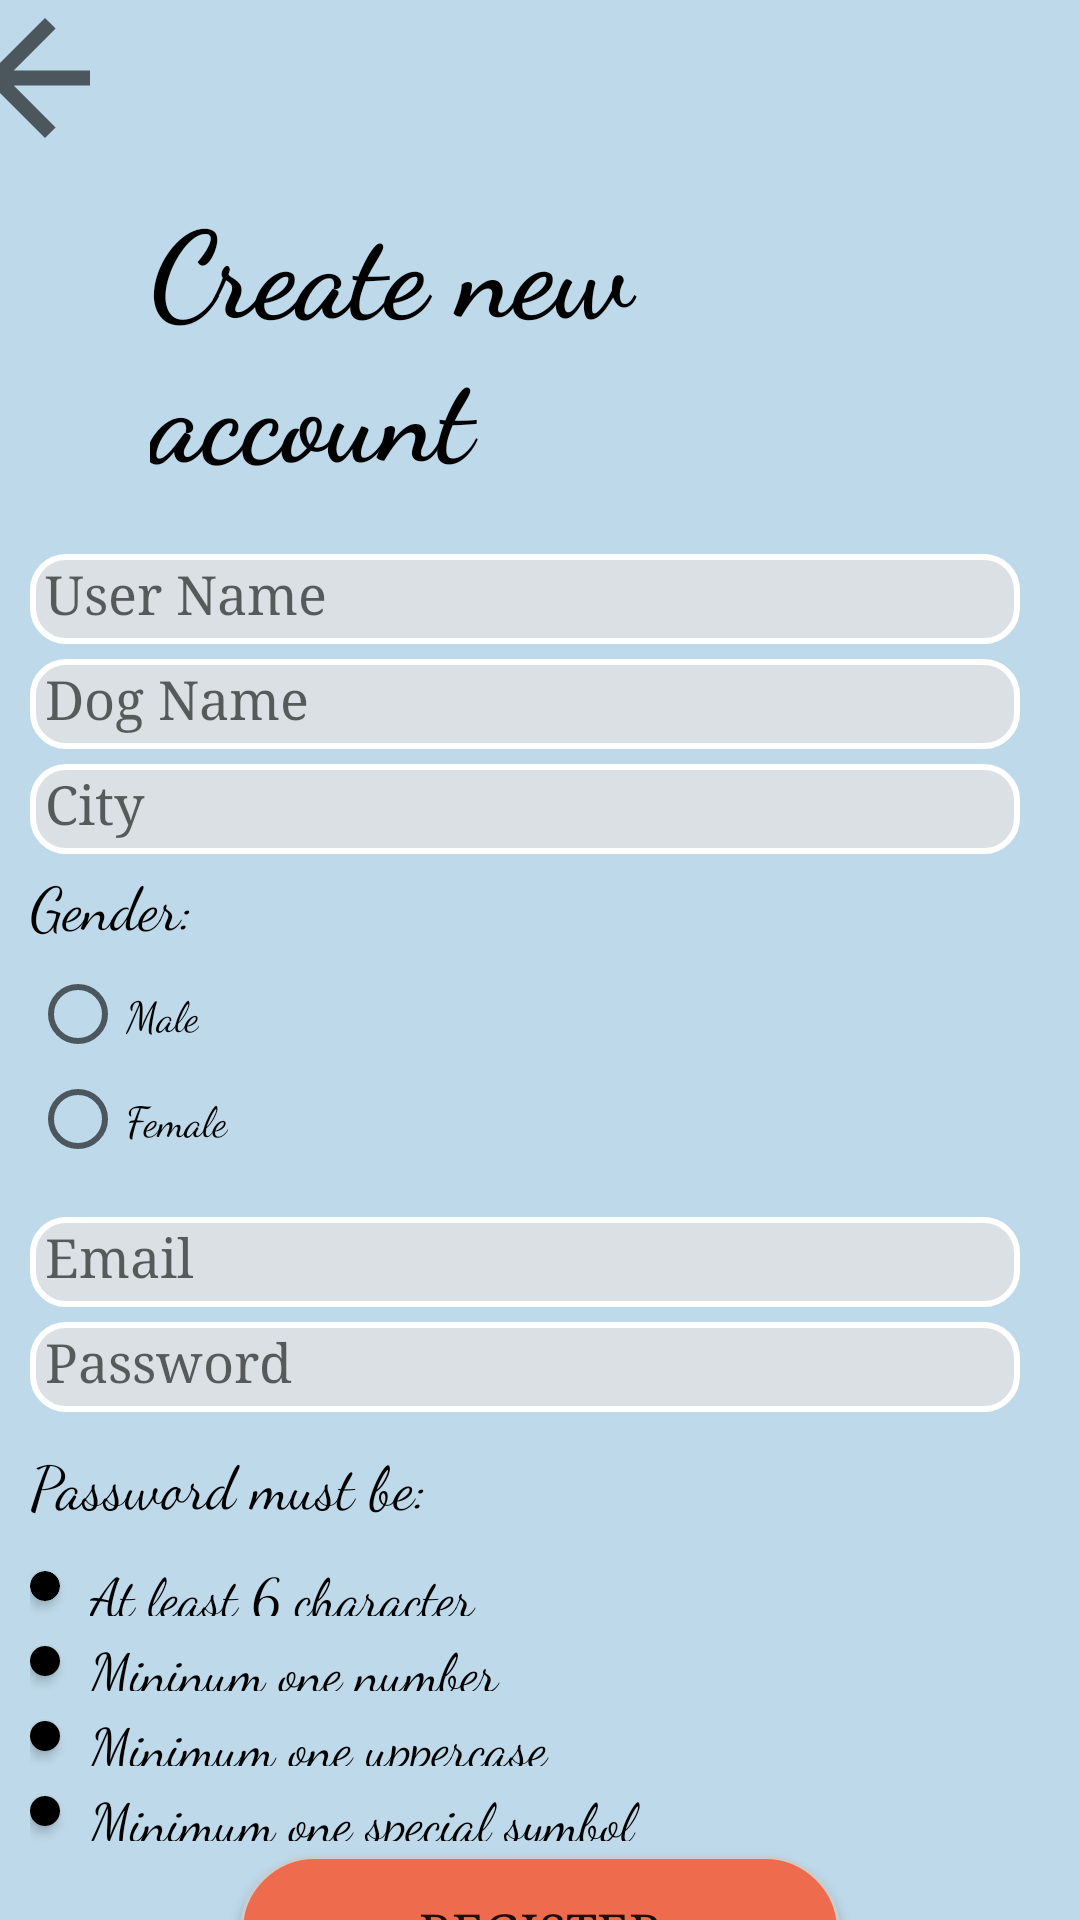

Icons on this 1080×1920 Android screen, each with the point to tap as [x,y]:
arrow back: [45,78]
